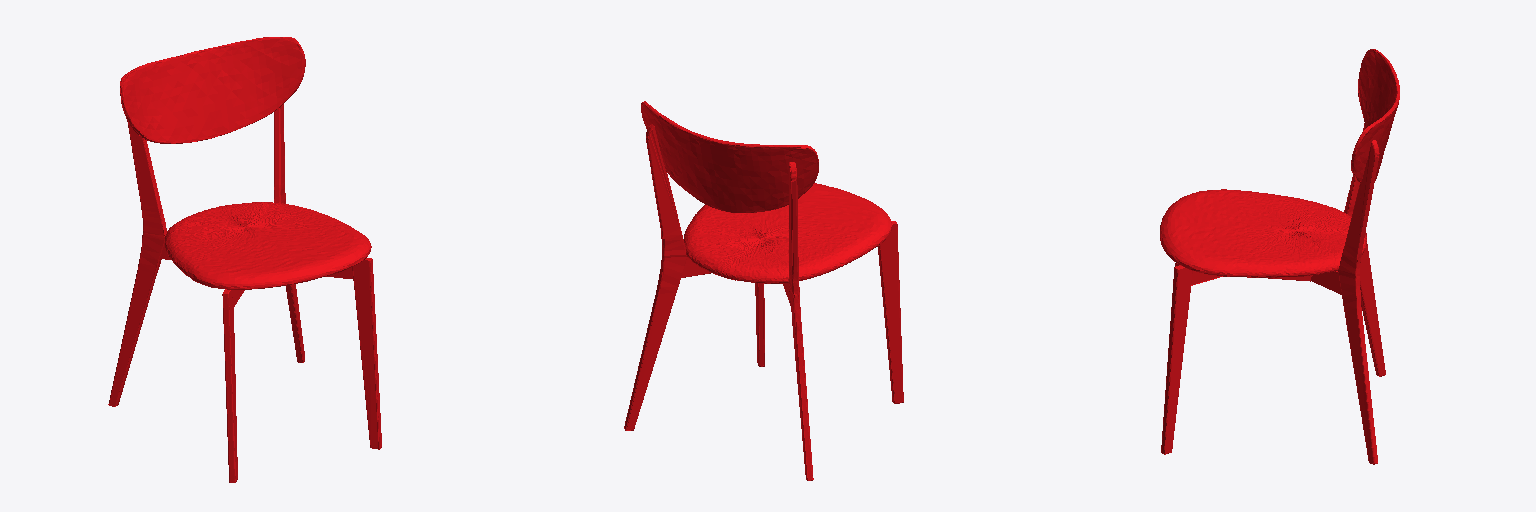
Rendered from chair12.obj.
3 renders of one model, left to right at view 1: azimuth 30°, elevation 25°; view 2: azimuth 150°, elevation 25°; view 3: azimuth 270°, elevation 25°, orthographic.
Parts seen in each view (by area): view 1: Object.1, Object.2; view 2: Object.1, Object.2; view 3: Object.2, Object.1.
Part boxes in pixels (left/top/right/bottom): Object.1: left=108, top=37, right=381, bottom=482; Object.2: left=165, top=202, right=371, bottom=289; Object.1: left=624, top=101, right=903, bottom=480; Object.2: left=684, top=183, right=891, bottom=283; Object.2: left=1160, top=189, right=1366, bottom=277; Object.1: left=1161, top=49, right=1399, bottom=464.
Bounding box in the file's own units: 43.31 × 71.76 × 46.76.